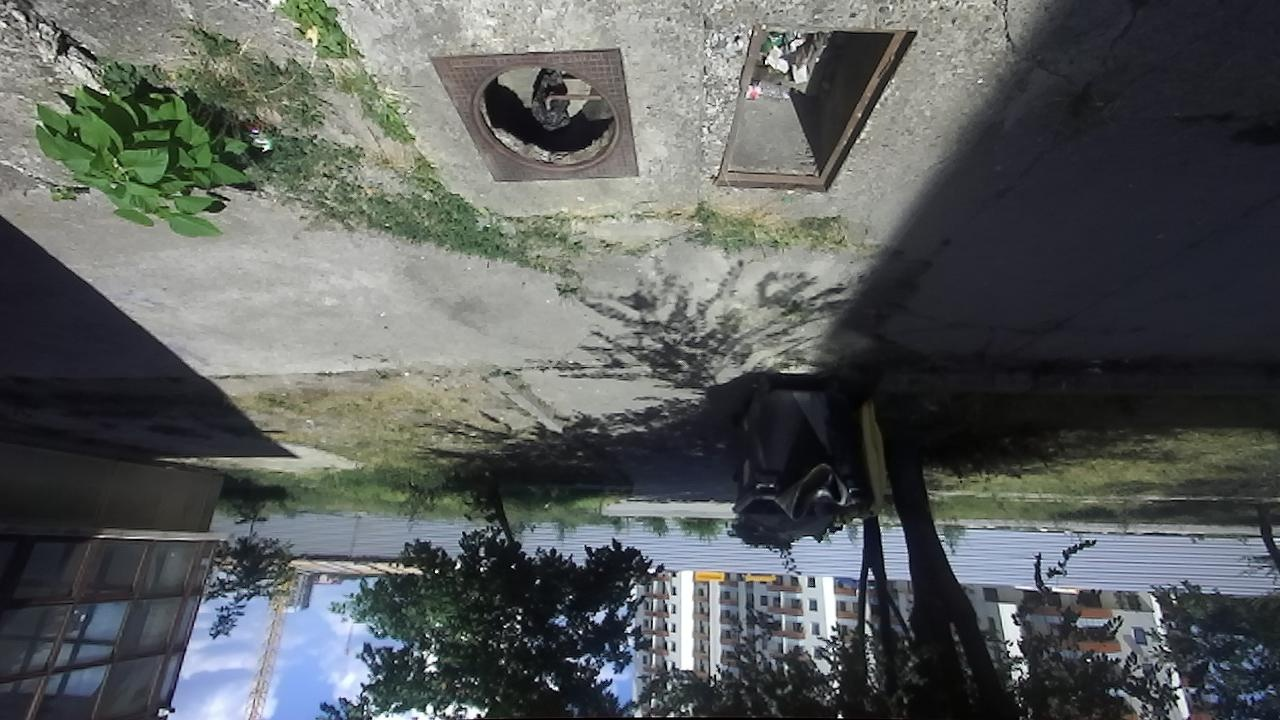drain: (708, 22, 920, 198), (462, 61, 622, 178)
